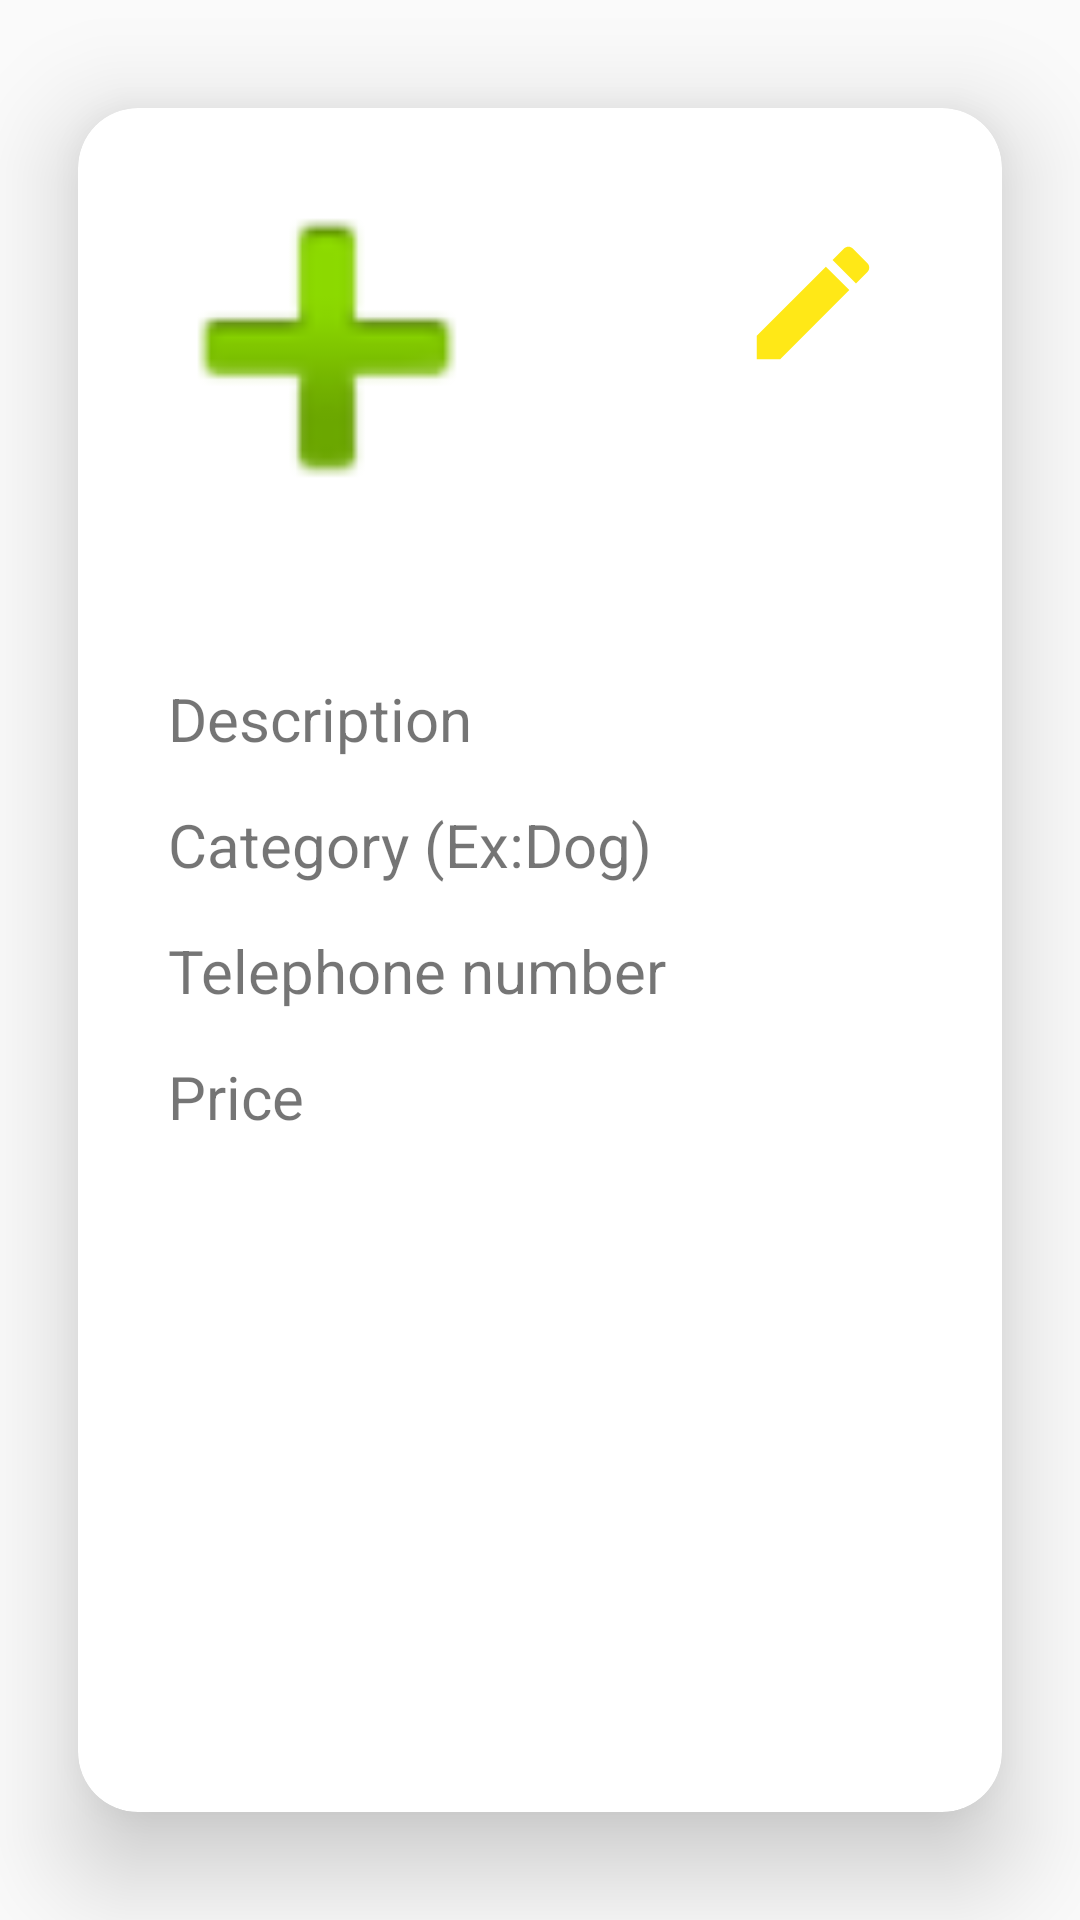

Icons on this 1080px x 1920px Android screen, each with the point to tap as point (x, y):
add: point (327, 348)
ediit: point (813, 303)
